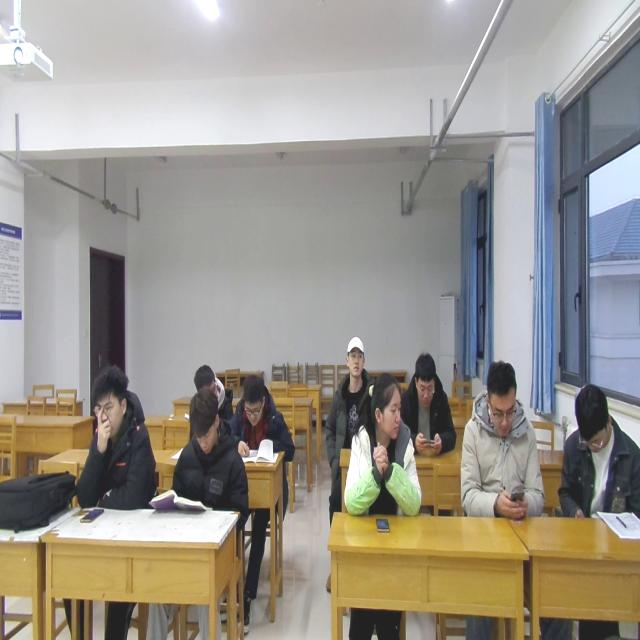down: (90, 362, 132, 446), (572, 382, 612, 456), (484, 356, 518, 440), (186, 385, 222, 456), (412, 348, 440, 411), (239, 374, 267, 431), (190, 361, 218, 398)
lookup: (342, 332, 366, 379)
sit: (462, 358, 546, 514), (72, 360, 156, 512), (344, 376, 422, 519), (560, 381, 640, 517), (170, 392, 247, 516), (228, 378, 296, 463), (321, 332, 375, 438), (402, 351, 456, 456), (185, 361, 223, 425)
